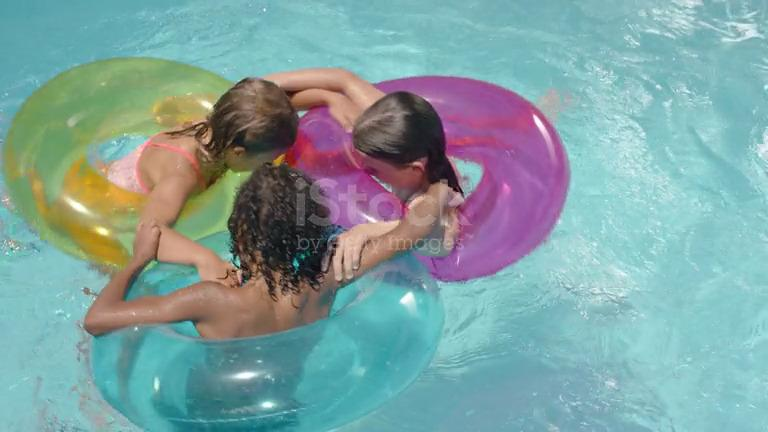Swimming: (14, 13, 741, 432)
